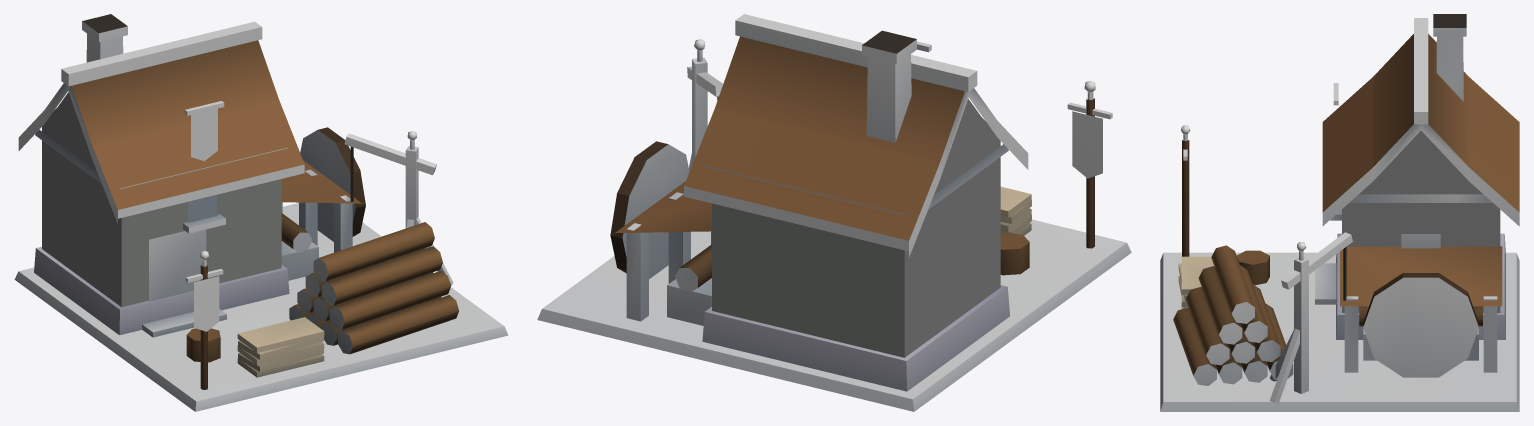
The model's file is lumber_mill_t5.glb.
3 renders of one model, left to right at view 1: azimuth 30°, elevation 25°; view 2: azimuth 150°, elevation 25°; view 3: azimuth 270°, elevation 25°, orthographic. The views are drawn at different scales.
Parts seen in each view (by area): view 1: lumber_mill_t5; view 2: lumber_mill_t5; view 3: lumber_mill_t5.
Part boxes in pixels (x1,y1,x2,y2): lumber_mill_t5: (14,14,508,411); lumber_mill_t5: (537,14,1131,411); lumber_mill_t5: (1160,14,1519,411).
Bounding box in the file's own units: 1.87 × 1.52 × 1.86.
